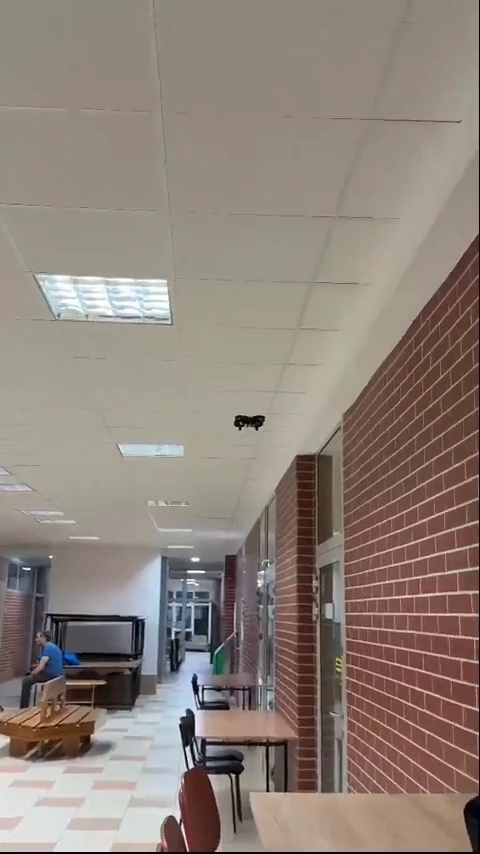drone: (232, 414, 266, 429)
no vest: (23, 623, 64, 702)
